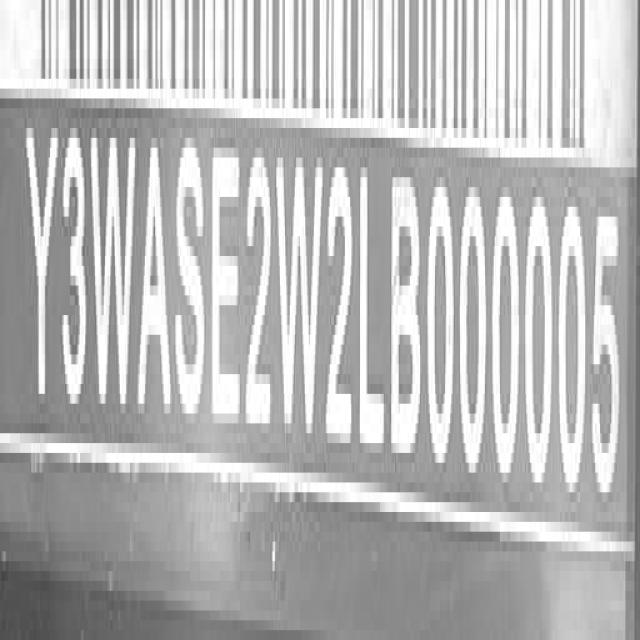0: (490, 182, 520, 478), (524, 197, 554, 492), (458, 178, 487, 478), (426, 172, 455, 470), (558, 204, 586, 489)
2: (324, 149, 354, 456), (244, 150, 274, 445)
3: (61, 116, 89, 426)
5: (592, 208, 620, 496)
A: (137, 128, 175, 448)
B: (391, 157, 422, 463)
E: (209, 131, 241, 441)
L: (358, 157, 385, 467)
S: (174, 128, 205, 444)
W: (274, 153, 324, 456), (88, 120, 137, 427)
Y: (24, 117, 58, 401)
